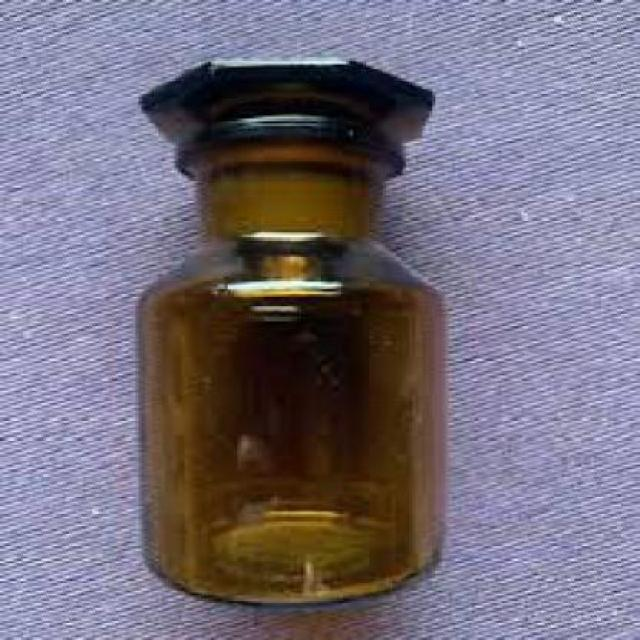kaca: (133, 56, 450, 606)
